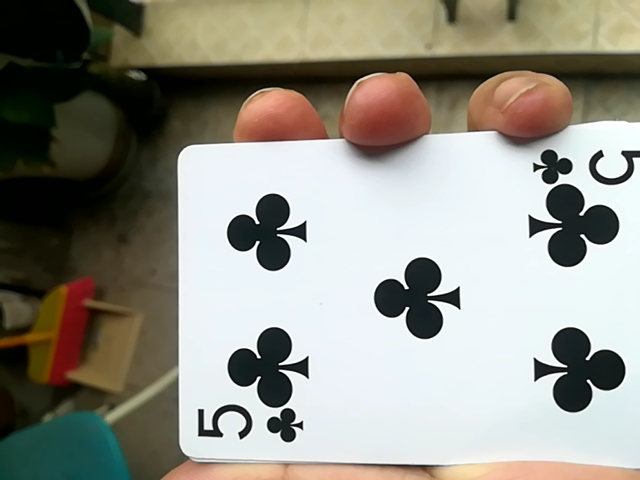mh 5: (164, 125, 636, 477)
